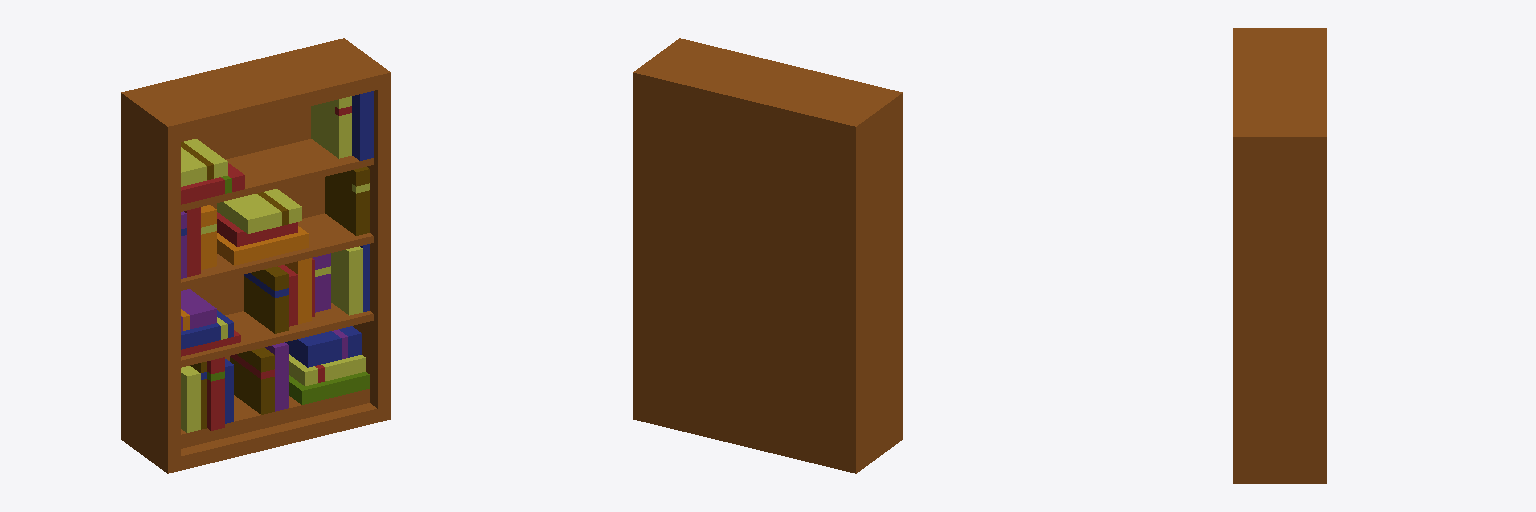
3 views of the same model, side by side, from view 1: azimuth 30°, elevation 25°; view 2: azimuth 150°, elevation 25°; view 3: azimuth 270°, elevation 25° (orthographic).
Parts seen in each view (by area): view 1: object 1; view 2: object 1; view 3: object 1.
Boxes of the visible parts, x1,y1,x2,y2 form: object 1: [121, 38, 390, 473]; object 1: [633, 38, 902, 473]; object 1: [1233, 28, 1326, 483].
Size of the model in its own units: 3.3 by 4.9 by 1.2.
1 materials, 1 textured.